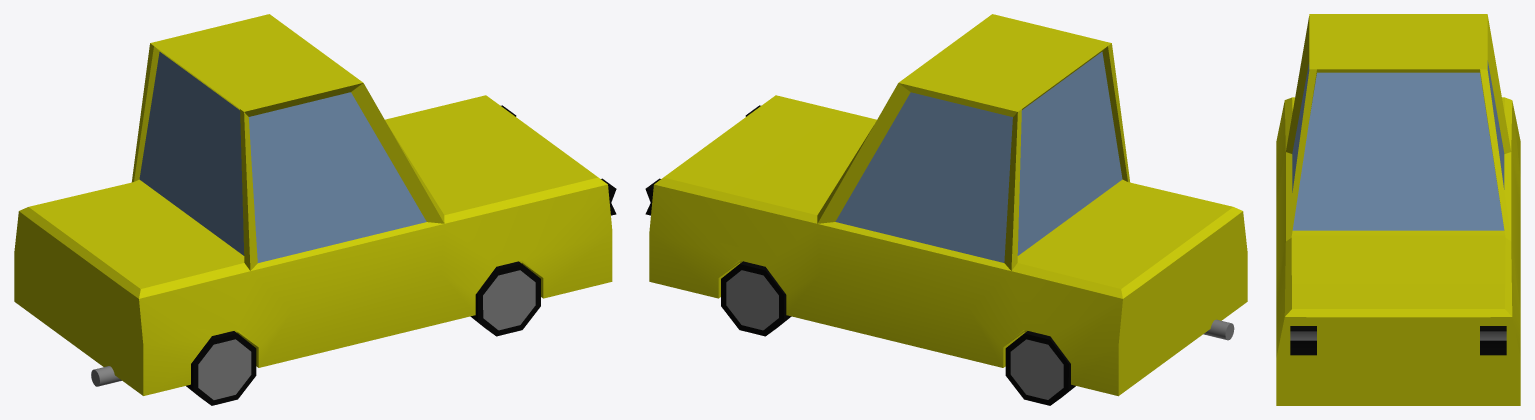
The model's file is Decoration_Car_Yellow.fbx.
The picture shows the model from 3 angles, left to right: view 1: azimuth 30°, elevation 25°; view 2: azimuth 150°, elevation 25°; view 3: azimuth 270°, elevation 25°; orthographic projection. The views are drawn at different scales.
Visible parts, largest first — view 1: pCube1, pCylinder3, pCylinder1; view 2: pCube1, pCylinder2, pCylinder4; view 3: pCube1, pCube2, pCube3.
Part boxes in pixels (x1,y1,x2,y2): pCube1: [14, 14, 612, 395]; pCylinder3: [470, 261, 540, 336]; pCylinder1: [186, 331, 256, 405]; pCube1: [649, 14, 1247, 396]; pCylinder2: [1005, 331, 1075, 405]; pCylinder4: [721, 261, 791, 336]; pCube1: [1276, 14, 1520, 405]; pCube2: [1290, 326, 1316, 355]; pCube3: [1480, 326, 1506, 355].
Size of the model in its own units: 2.22 by 1.15 by 1.
